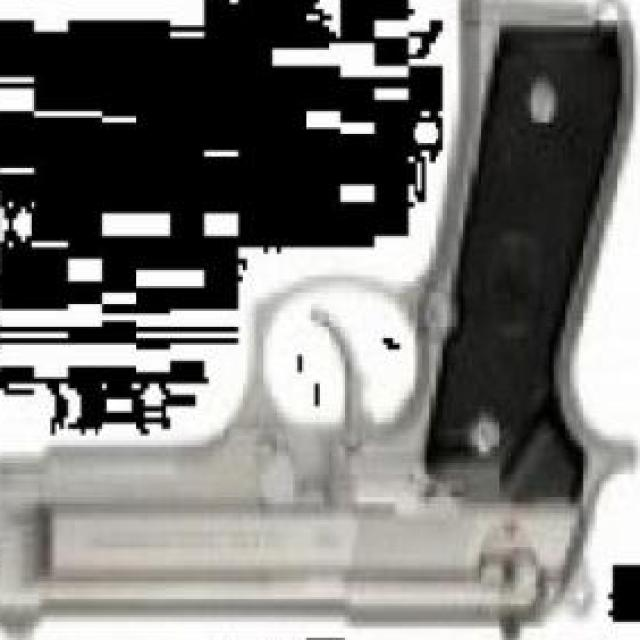pistol: (0, 1, 635, 638)
